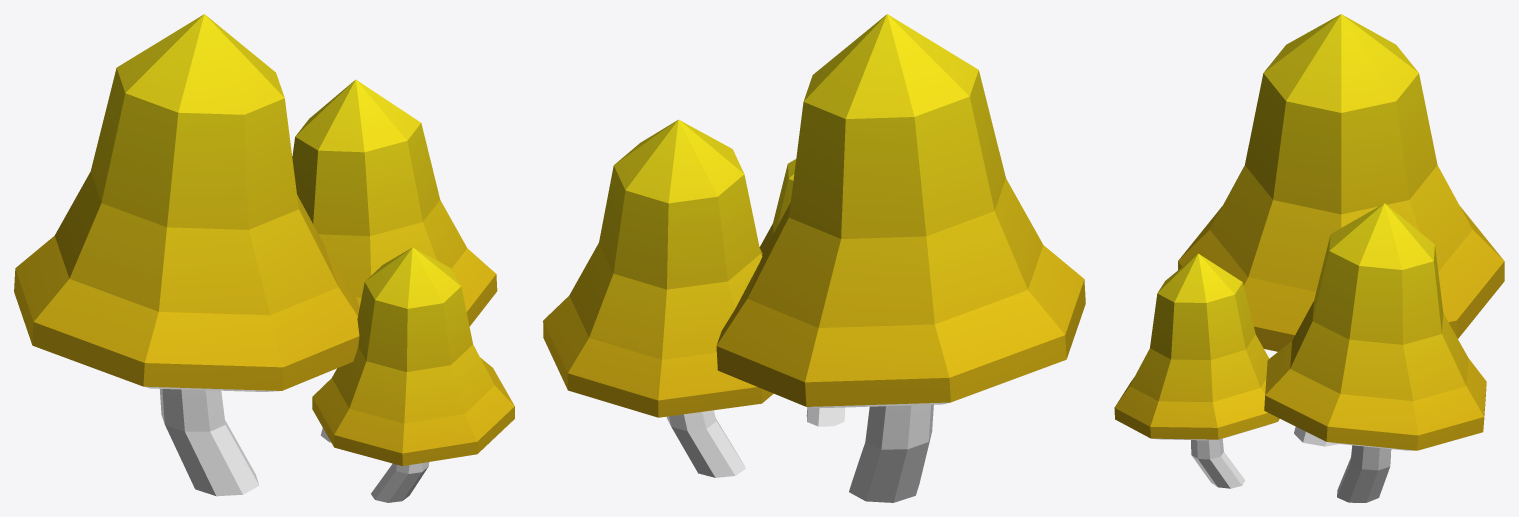
The model's file is Mushroom_high_group_yellow.fbx.
3 views of the same model, side by side, from view 1: azimuth 30°, elevation 25°; view 2: azimuth 150°, elevation 25°; view 3: azimuth 270°, elevation 25° (orthographic). The views are drawn at different scales.
Parts seen in each view (by area): view 1: Mushroom_high_group_yellow; view 2: Mushroom_high_group_yellow; view 3: Mushroom_high_group_yellow.
Boxes of the visible parts, x1,y1,x2,y2 form: Mushroom_high_group_yellow: (14, 14, 514, 502); Mushroom_high_group_yellow: (543, 14, 1085, 502); Mushroom_high_group_yellow: (1114, 14, 1504, 502).
Bounding box in the file's own units: 0.3429 × 0.3312 × 0.2827.
